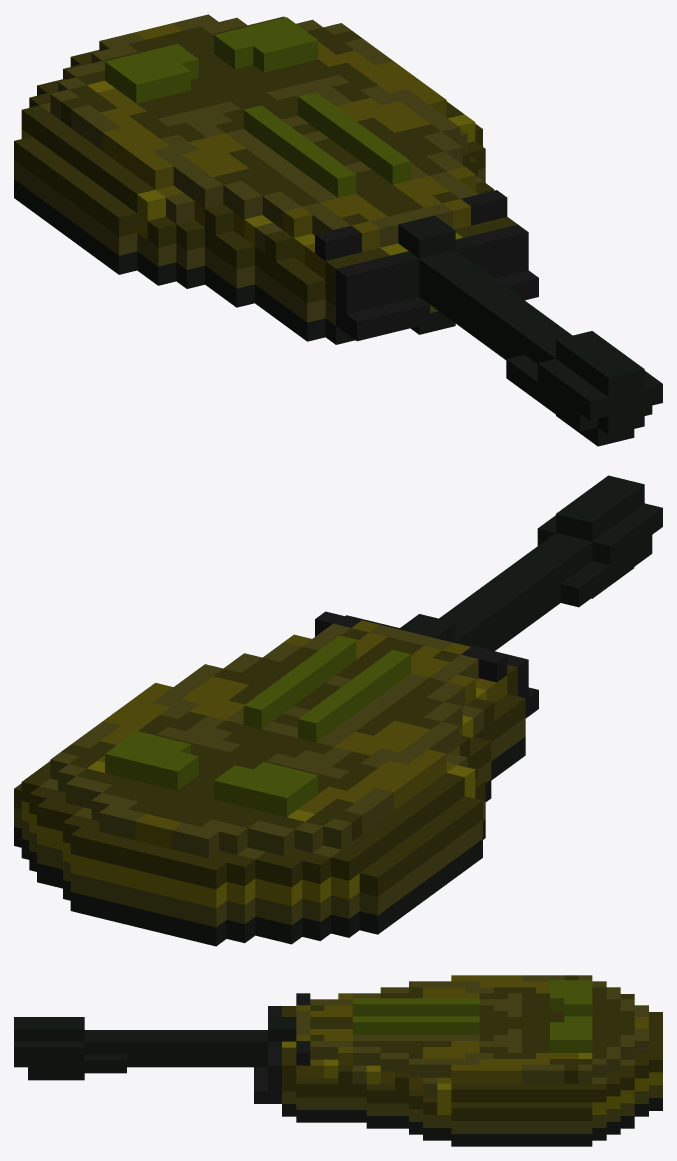
Rendered from firsttank-24.obj.
3 views of the same model, one above another, from view 1: azimuth 30°, elevation 25°; view 2: azimuth 150°, elevation 25°; view 3: azimuth 270°, elevation 25° (orthographic). The views are drawn at different scales.
Size of the model in its own units: 2 by 0.6 by 4.6.
Materials: 1 (1 with a texture image).
